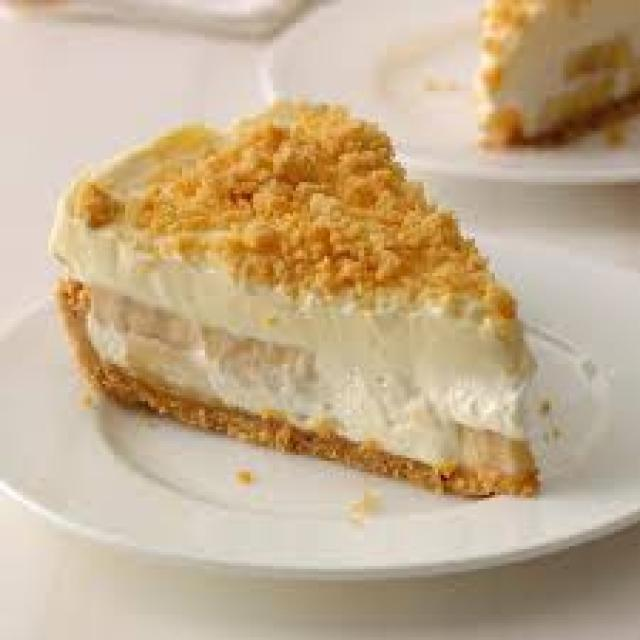Wet Waste: (52, 110, 598, 539)
